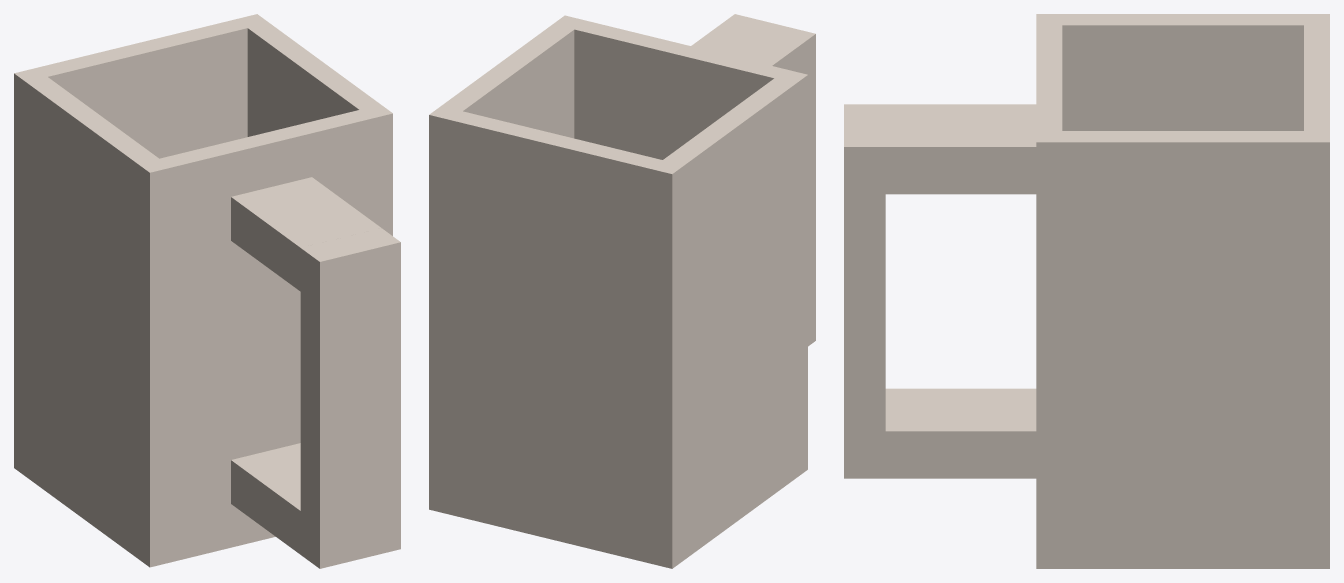
The model's file is Coffee.fbx.
The picture shows the model from 3 angles, left to right: view 1: azimuth 30°, elevation 25°; view 2: azimuth 150°, elevation 25°; view 3: azimuth 270°, elevation 25°; orthographic projection. The views are drawn at different scales.
Visible parts, largest first — view 1: Coffee; view 2: Coffee; view 3: Coffee.
Part boxes in pixels (x1=…): Coffee: x1=14, y1=14, x2=400, y2=568; Coffee: x1=429, y1=14, x2=815, y2=568; Coffee: x1=844, y1=14, x2=1329, y2=568.
Bounding box in the file's own units: 0.4971 × 0.7707 × 0.7955.
